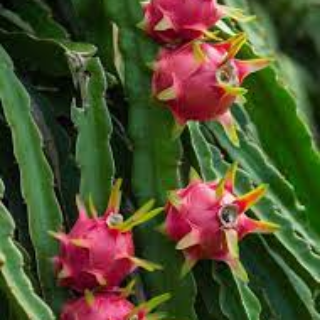thanh_long: (155, 167, 270, 261), (149, 38, 257, 138), (47, 197, 157, 289)
